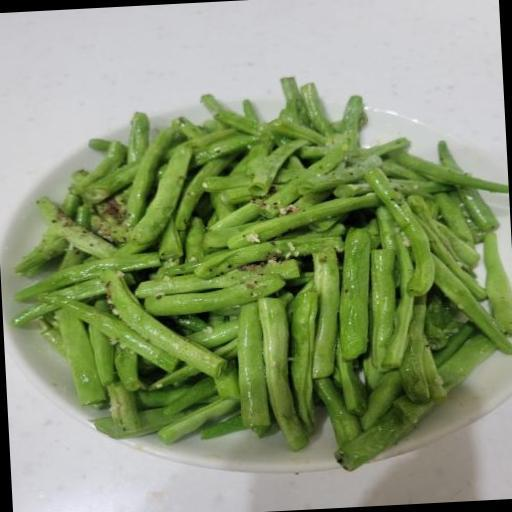buncis_rebus: (5, 56, 512, 495)
